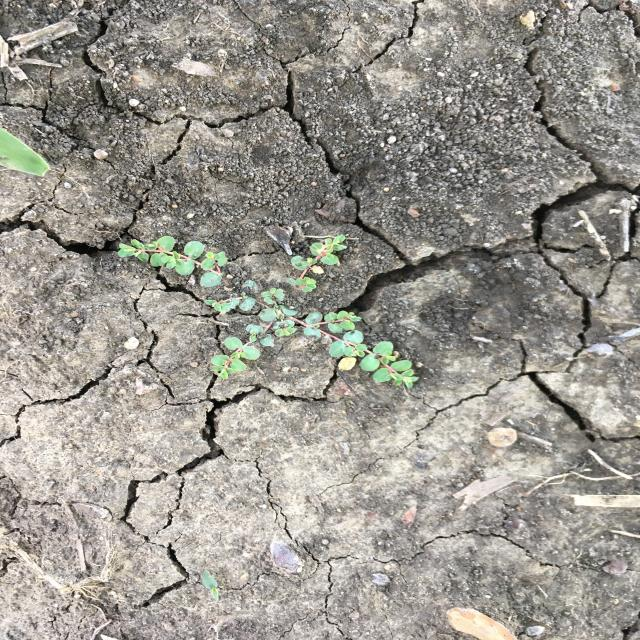SpottedSpurge: (115, 232, 424, 392)
